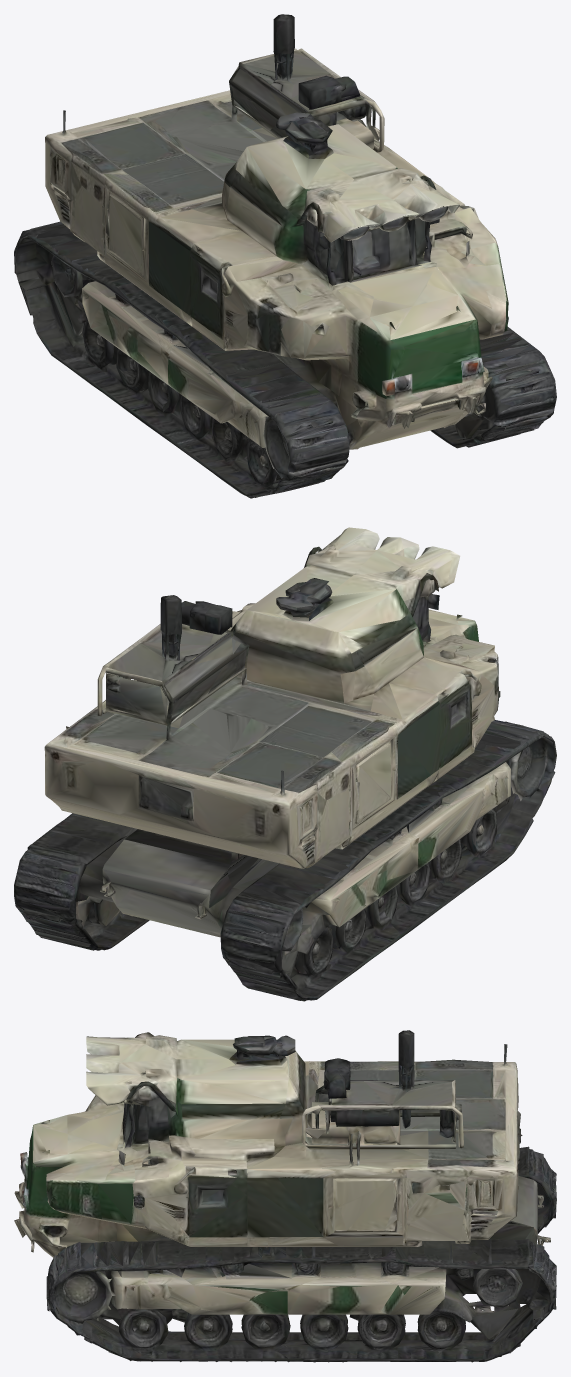
Rendered from t243_extr_lod0.glb.
The picture shows the model from 3 angles, top to bottom: view 1: azimuth 30°, elevation 25°; view 2: azimuth 150°, elevation 25°; view 3: azimuth 270°, elevation 25°; orthographic projection. The views are drawn at different scales.
Size of the model in its own units: 3.13 by 3.64 by 6.
Materials: 1 (1 with a texture image).
